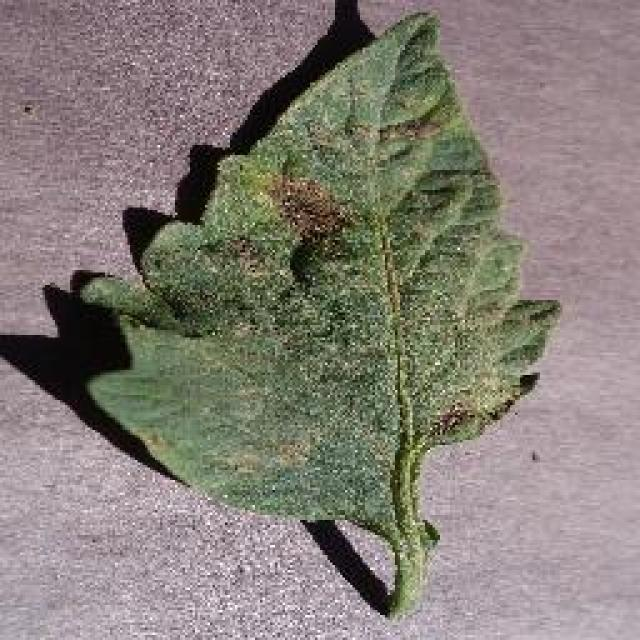Tomato Early blight leaf: (70, 0, 555, 520)
